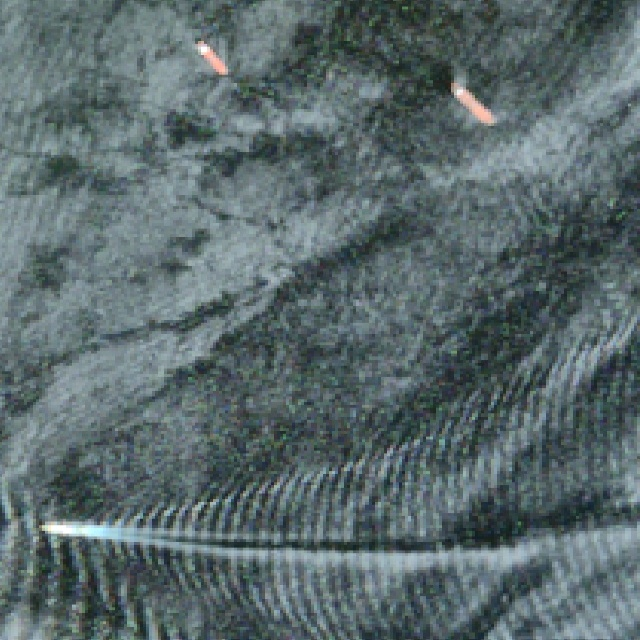wake: (27, 452, 444, 628)
